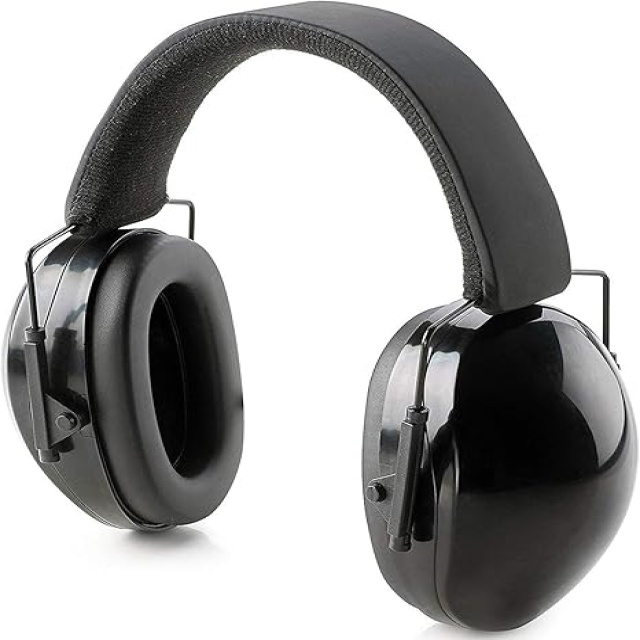Hearing_Protection: (385, 301, 617, 586), (9, 239, 233, 495)
